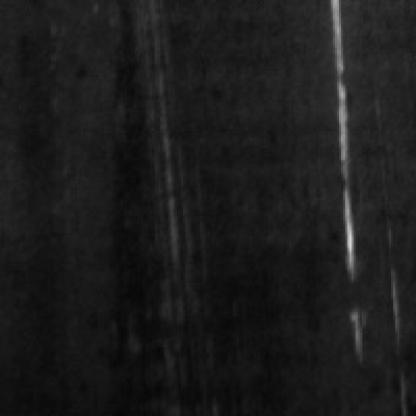scratches: (333, 0, 370, 352), (150, 60, 192, 266)
